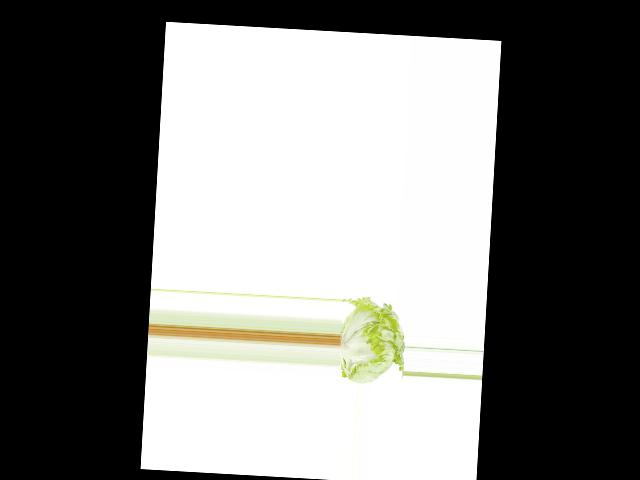lettuce: (337, 292, 407, 388)
